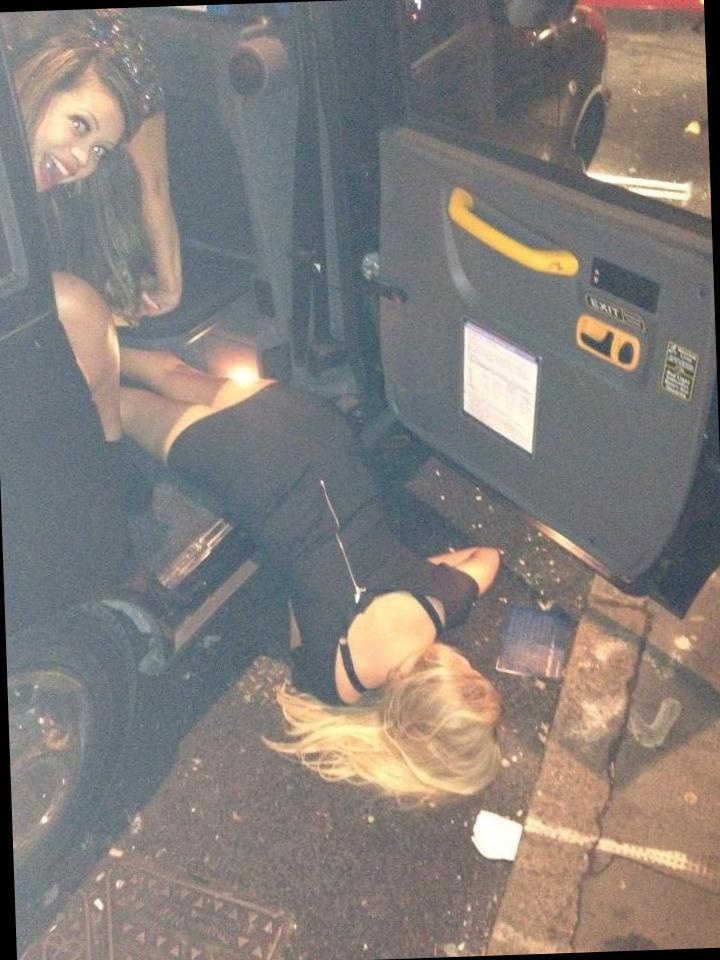Drunk: (33, 94, 123, 190)
